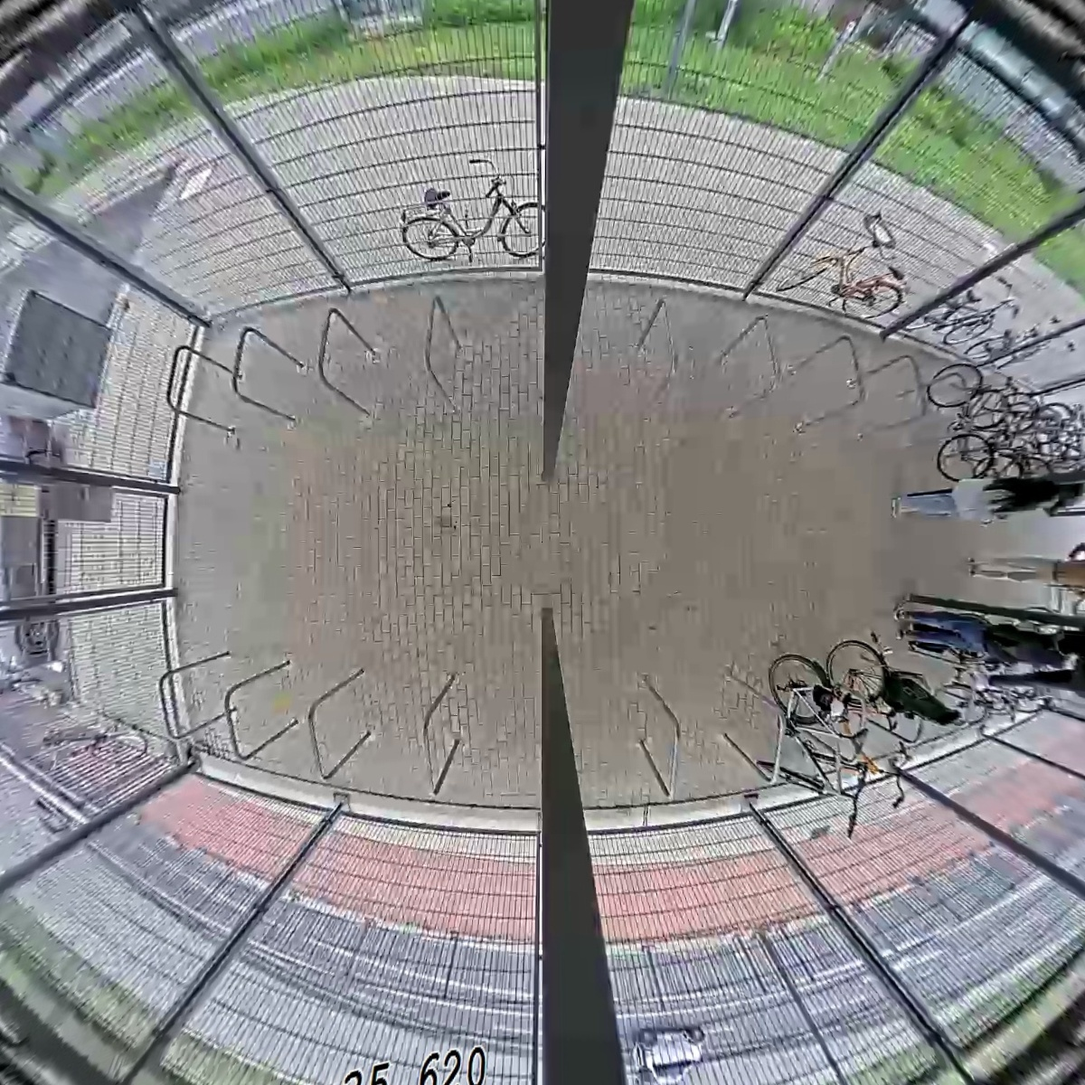bicylce: (925, 359, 1020, 491), (811, 638, 889, 792), (756, 655, 839, 791), (961, 385, 1031, 492), (991, 389, 1057, 492)
saddle: (847, 723, 871, 756), (882, 704, 900, 735), (999, 419, 1013, 444)
